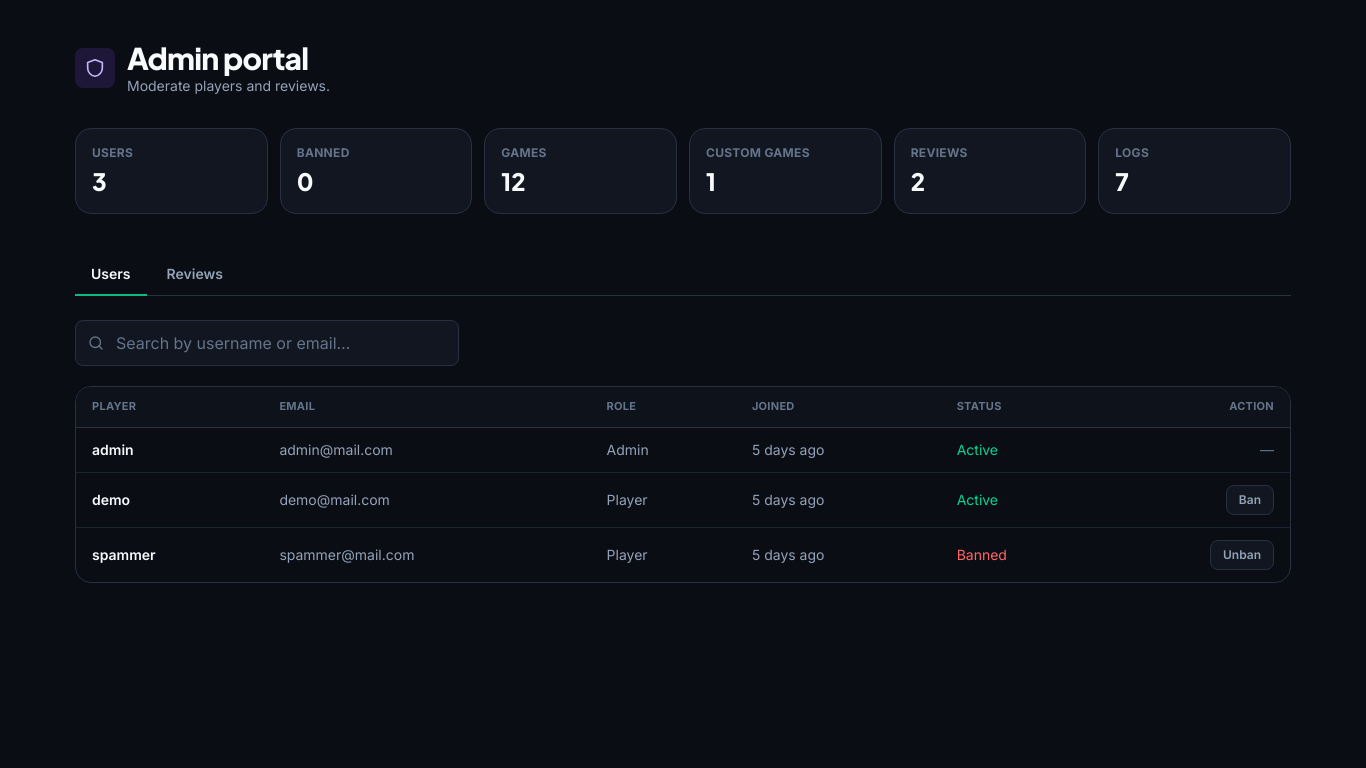
Test: AdminView › shows why an action failed
Click the button with test id "ban" showing "Ban": {"x": 1250, "y": 500} [1226, 485, 1274, 515]
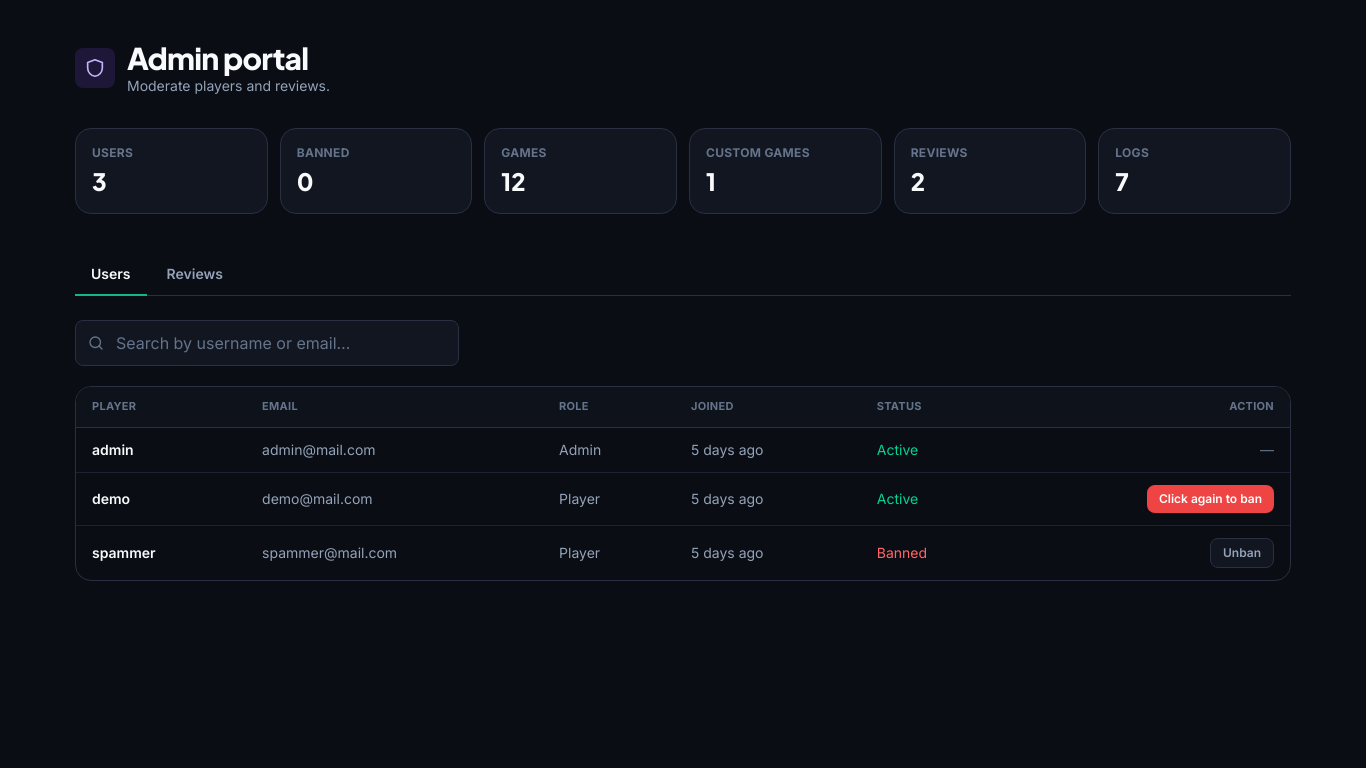
Click the button with test id "ban" showing "Click again to ban": {"x": 1210, "y": 499} [1147, 485, 1274, 513]
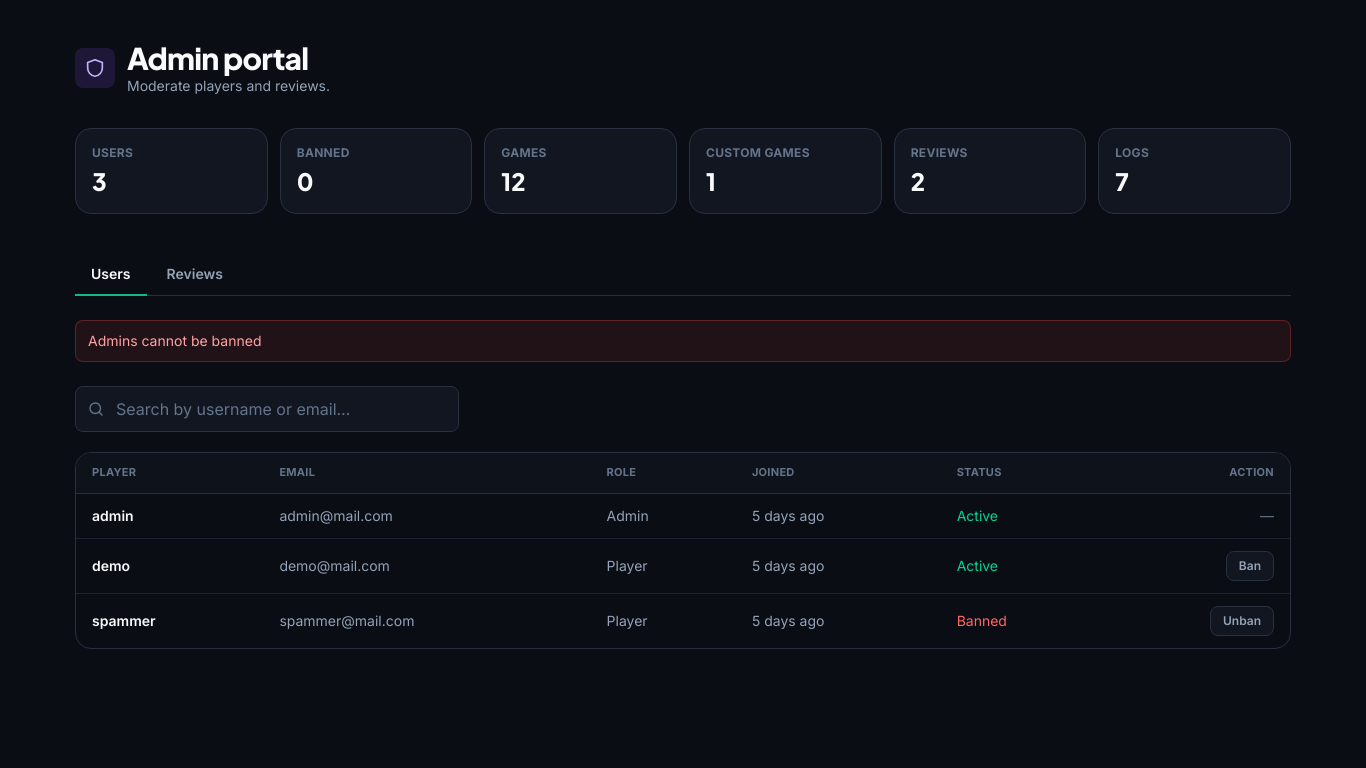
Expected: the message with test id "action-error" reads "Admins cannot be banned", [88, 332, 262, 349]
